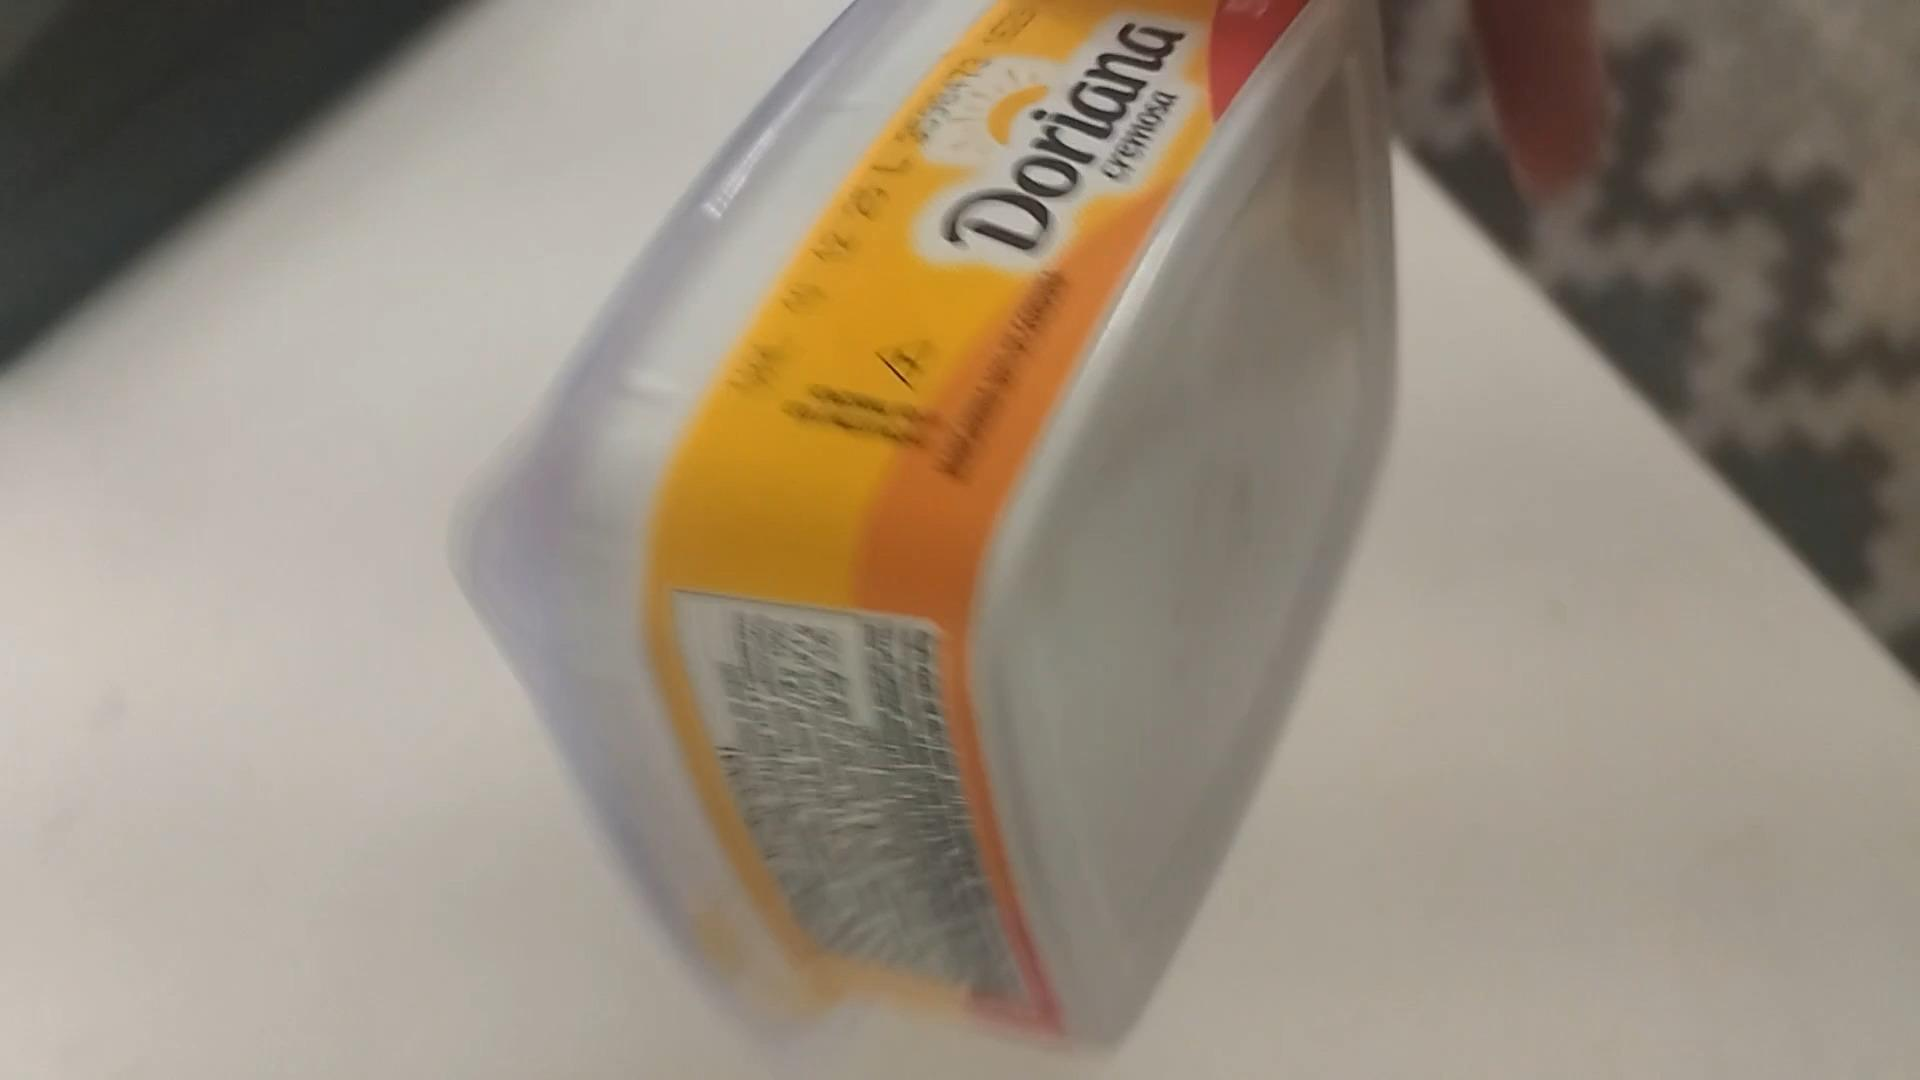butter: (438, 0, 1414, 1055)
